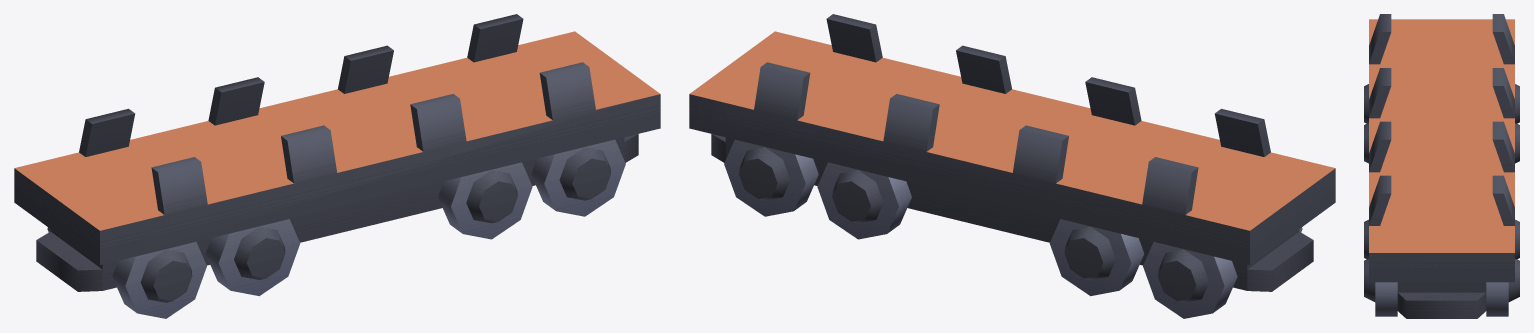
File: train-wagon-flat.glb
3 views of the same model, side by side, from view 1: azimuth 30°, elevation 25°; view 2: azimuth 150°, elevation 25°; view 3: azimuth 270°, elevation 25° (orthographic). The views are drawn at different scales.
Visible parts, largest first — view 1: train-wagon-flat; view 2: train-wagon-flat; view 3: train-wagon-flat.
Part boxes in pixels (box(x1,y1,x2,y2)): train-wagon-flat: box(14, 14, 660, 318); train-wagon-flat: box(689, 14, 1335, 318); train-wagon-flat: box(1364, 14, 1519, 318).
Size of the model in its own units: 2.07 by 0.5161 by 0.5848.
Materials: 1 (1 with a texture image).
